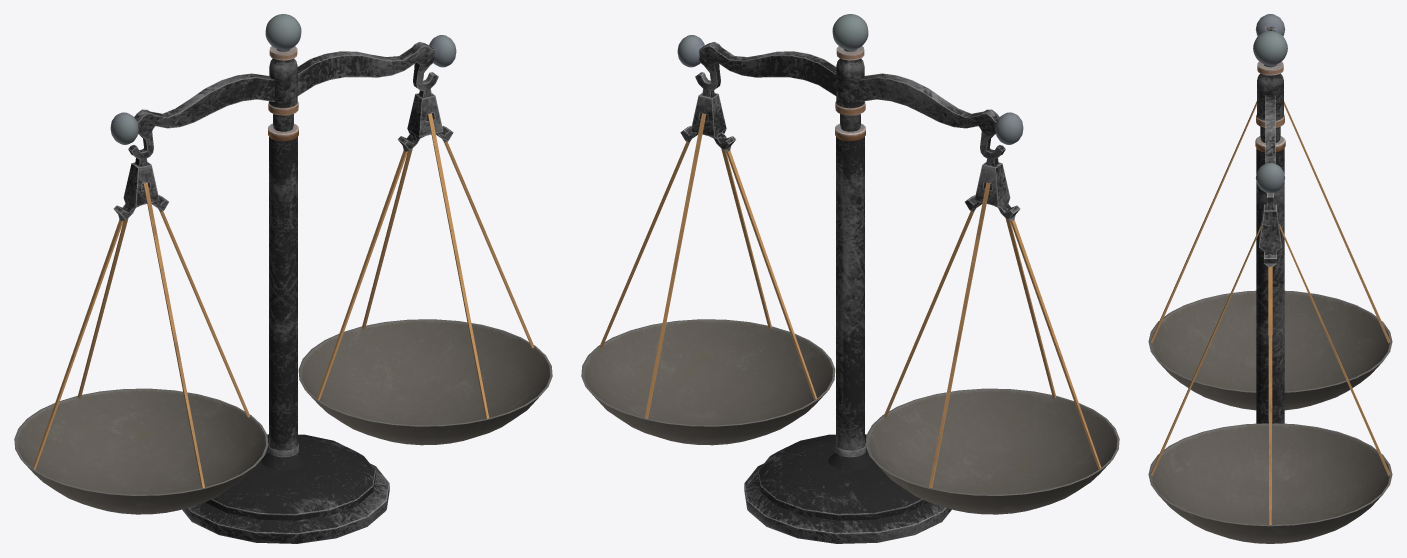
3 renders of one model, left to right at view 1: azimuth 30°, elevation 25°; view 2: azimuth 150°, elevation 25°; view 3: azimuth 270°, elevation 25°, orthographic. The views are drawn at different scales.
Visible parts, largest first — view 1: scales_0; view 2: scales_0; view 3: scales_0.
Part boxes in pixels (box(x1,y1,x2,y2)): scales_0: box(14, 14, 552, 543); scales_0: box(581, 14, 1119, 543); scales_0: box(1148, 14, 1392, 543).
Size of the model in its own units: 3.86 by 3.54 by 1.69.
Materials: 1 (1 with a texture image).
